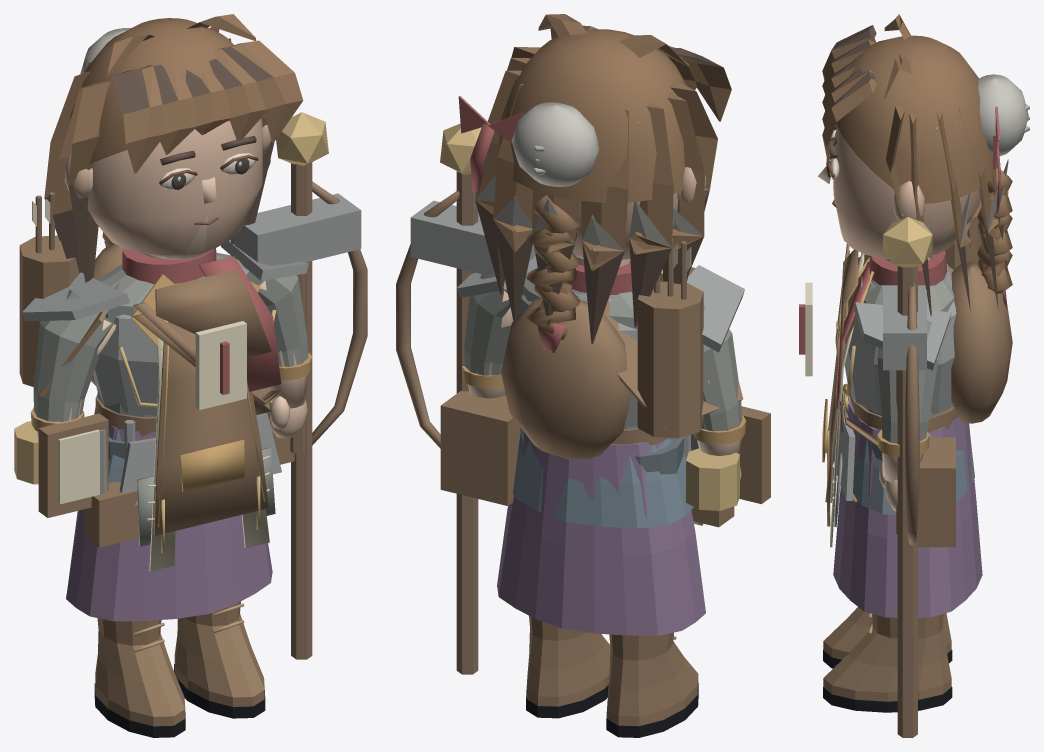
Rendered from npc_parts.glb.
3 renders of one model, left to right at view 1: azimuth 30°, elevation 25°; view 2: azimuth 150°, elevation 25°; view 3: azimuth 270°, elevation 25°, orthographic. The views are drawn at different scales.
Parts seen in each view (by area): view 1: NPC_OUTFIT_APRON_02, NPC_HAIR_BOB_02, NPC_OUTFIT_RITUAL_05, NPC_BODY_M_00, NPC_OUTFIT_ARMOR_03, NPC_ACCESSORY_STAFF_08, NPC_ACCESSORY_BOW_01, NPC_ACCESSORY_HAMMER_02, NPC_OUTFIT_TRAVELLER_01, NPC_ACCESSORY_LEDGER_04, NPC_ACCESSORY_SEAL_03, NPC_BODY_F_01 (+8 smaller); view 2: NPC_HAIR_BOB_02, NPC_OUTFIT_RITUAL_05, NPC_OUTFIT_APRON_02, NPC_OUTFIT_TRAVELLER_01, NPC_ACCESSORY_BOW_01, NPC_OUTFIT_ARCHER_04, NPC_HAIR_BUN_04, NPC_ACCESSORY_SATCHEL_00, NPC_ACCESSORY_STAFF_08, NPC_HAIR_LONG_03, NPC_HAIR_BRAID_06, NPC_OUTFIT_ARMOR_03 (+9 smaller); view 3: NPC_HAIR_BOB_02, NPC_OUTFIT_APRON_02, NPC_OUTFIT_RITUAL_05, NPC_OUTFIT_TRAVELLER_01, NPC_ACCESSORY_STAFF_08, NPC_BODY_M_00, NPC_OUTFIT_ARMOR_03, NPC_ACCESSORY_SATCHEL_00, NPC_ACCESSORY_BOW_01, NPC_HAIR_BUN_04, NPC_ACCESSORY_HAMMER_02, NPC_HAIR_BRAID_06 (+8 smaller).
Part boxes in pixels (box(x1,y1,x2,y2)): NPC_OUTFIT_APRON_02: box(30, 252, 312, 737); NPC_HAIR_BOB_02: box(44, 18, 303, 214); NPC_OUTFIT_RITUAL_05: box(66, 289, 272, 621); NPC_BODY_M_00: box(64, 87, 271, 254); NPC_OUTFIT_ARMOR_03: box(22, 239, 308, 505); NPC_ACCESSORY_STAFF_08: box(276, 112, 328, 659); NPC_ACCESSORY_BOW_01: box(19, 181, 367, 445); NPC_ACCESSORY_HAMMER_02: box(235, 193, 361, 453); NPC_OUTFIT_TRAVELLER_01: box(91, 243, 271, 385); NPC_ACCESSORY_LEDGER_04: box(38, 413, 108, 517); NPC_ACCESSORY_SEAL_03: box(14, 321, 246, 484); NPC_BODY_F_01: box(36, 128, 307, 439); NPC_HAIR_BOB_02: box(475, 26, 731, 270); NPC_OUTFIT_RITUAL_05: box(497, 269, 705, 635); NPC_OUTFIT_APRON_02: box(462, 268, 746, 737); NPC_OUTFIT_TRAVELLER_01: box(501, 297, 631, 458); NPC_ACCESSORY_BOW_01: box(396, 191, 703, 448); NPC_OUTFIT_ARCHER_04: box(513, 295, 743, 528); NPC_HAIR_BUN_04: box(475, 102, 708, 250); NPC_ACCESSORY_SATCHEL_00: box(440, 267, 695, 505); NPC_ACCESSORY_STAFF_08: box(440, 123, 481, 674); NPC_HAIR_LONG_03: box(475, 192, 709, 343); NPC_HAIR_BRAID_06: box(476, 191, 708, 352); NPC_OUTFIT_ARMOR_03: box(456, 255, 744, 450); NPC_HAIR_BOB_02: box(822, 35, 998, 259); NPC_OUTFIT_APRON_02: box(822, 254, 958, 712); NPC_OUTFIT_RITUAL_05: box(827, 253, 982, 617); NPC_OUTFIT_TRAVELLER_01: box(838, 249, 1012, 423); NPC_ACCESSORY_STAFF_08: box(883, 217, 932, 737); NPC_BODY_M_00: box(829, 122, 980, 259); NPC_OUTFIT_ARMOR_03: box(832, 266, 956, 500); NPC_ACCESSORY_SATCHEL_00: box(835, 244, 955, 547); NPC_ACCESSORY_BOW_01: box(905, 201, 981, 545); NPC_HAIR_BUN_04: box(902, 74, 1029, 247); NPC_ACCESSORY_HAMMER_02: box(883, 285, 926, 534); NPC_HAIR_BRAID_06: box(902, 168, 1012, 307).
Size of the model in its own units: 1.3 by 2.43 by 0.7922.
